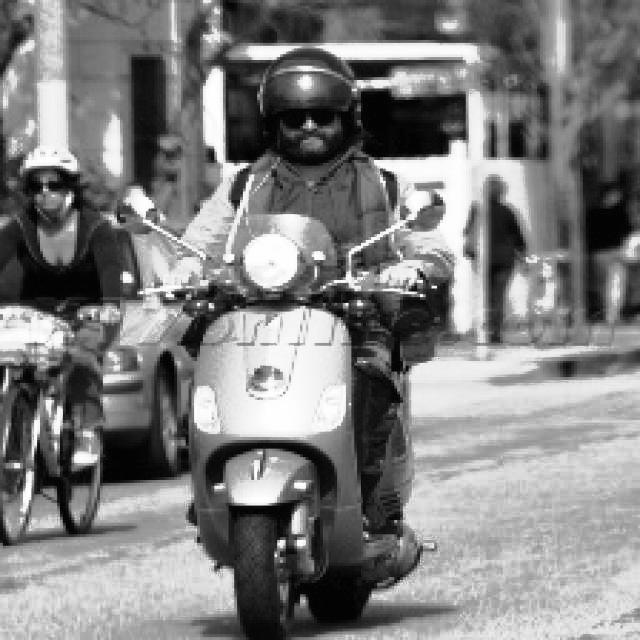Bike: (157, 237, 411, 639)
